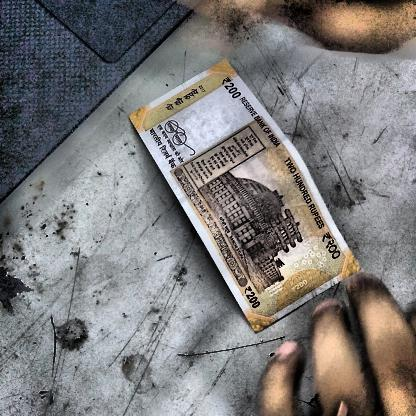Rs200: (239, 281, 266, 314), (218, 74, 246, 103)
